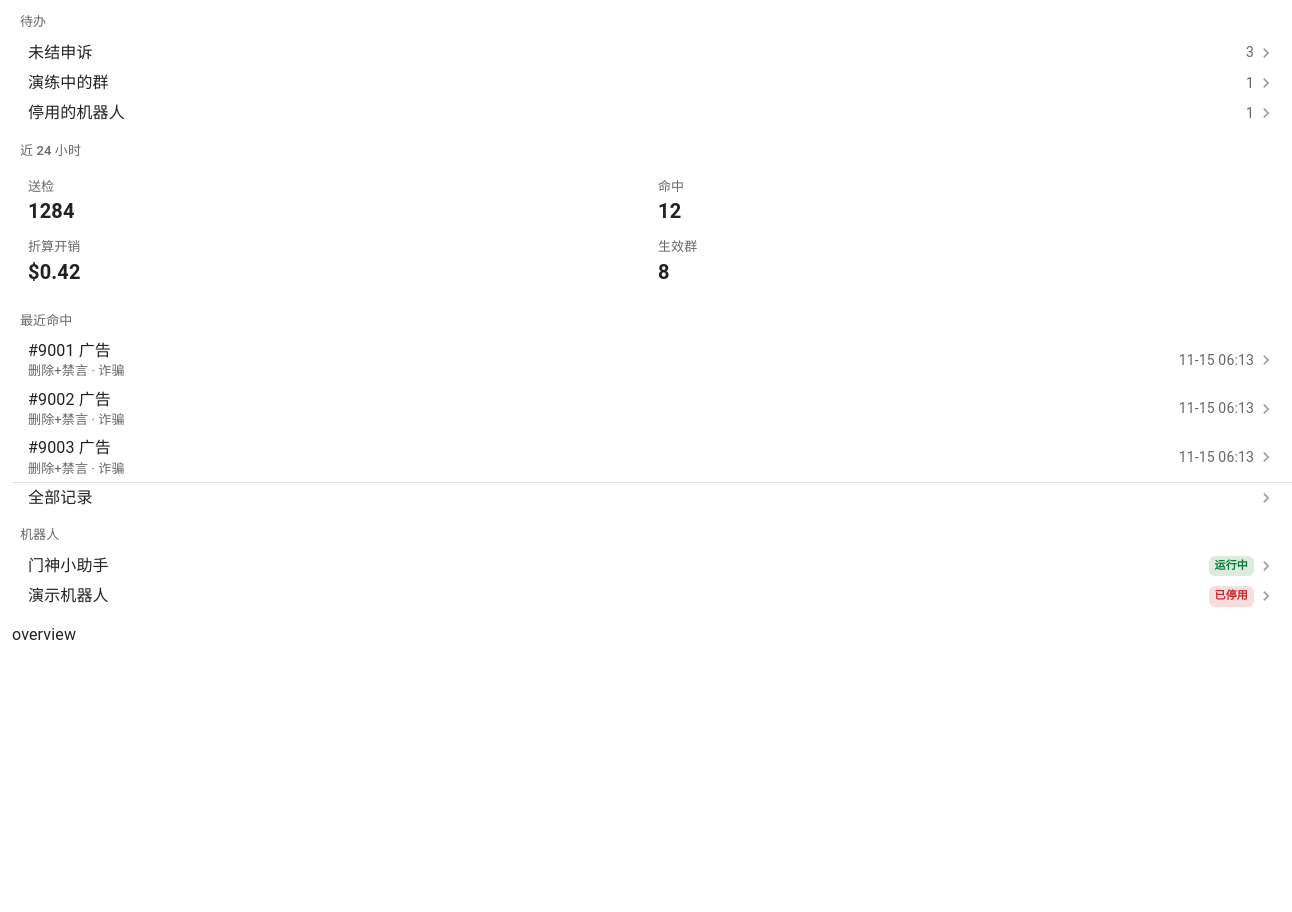
Test case: OverviewPage › 渲染指标与最近命中（只取前 3 条），点行进入 log 详情、全部记录进记录页
Expected: the text "送检" is shown, [28, 179, 54, 194]
Expected: the text "1284" is shown, [28, 199, 75, 223]
Click the text "#9001 广告".
click(70, 350)  # box [28, 341, 111, 360]
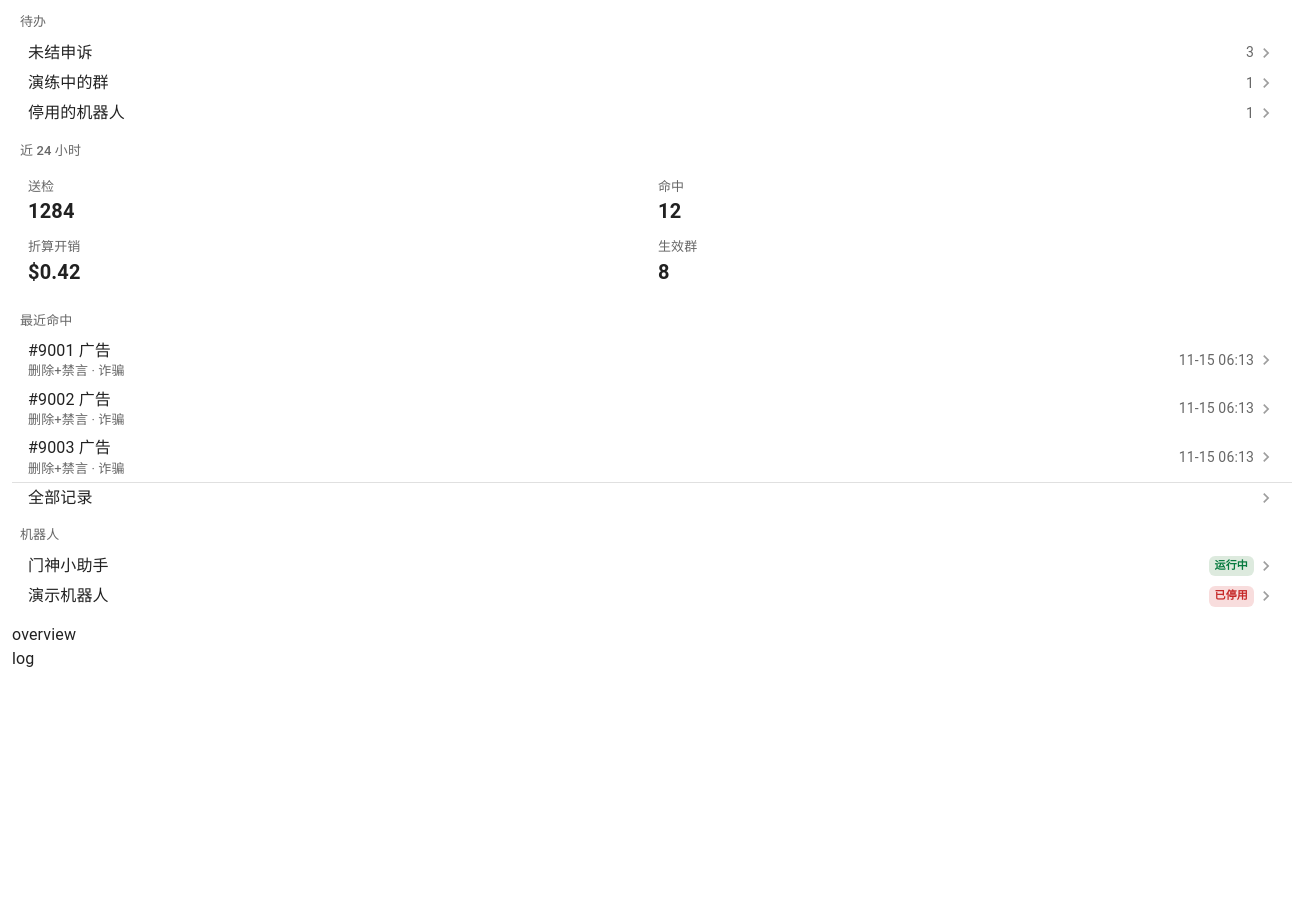
Expected: the text with test id "nav-top" reads "log", [12, 650, 34, 668]
Click the button "全部记录".
click(60, 497)  # box [12, 483, 1291, 513]
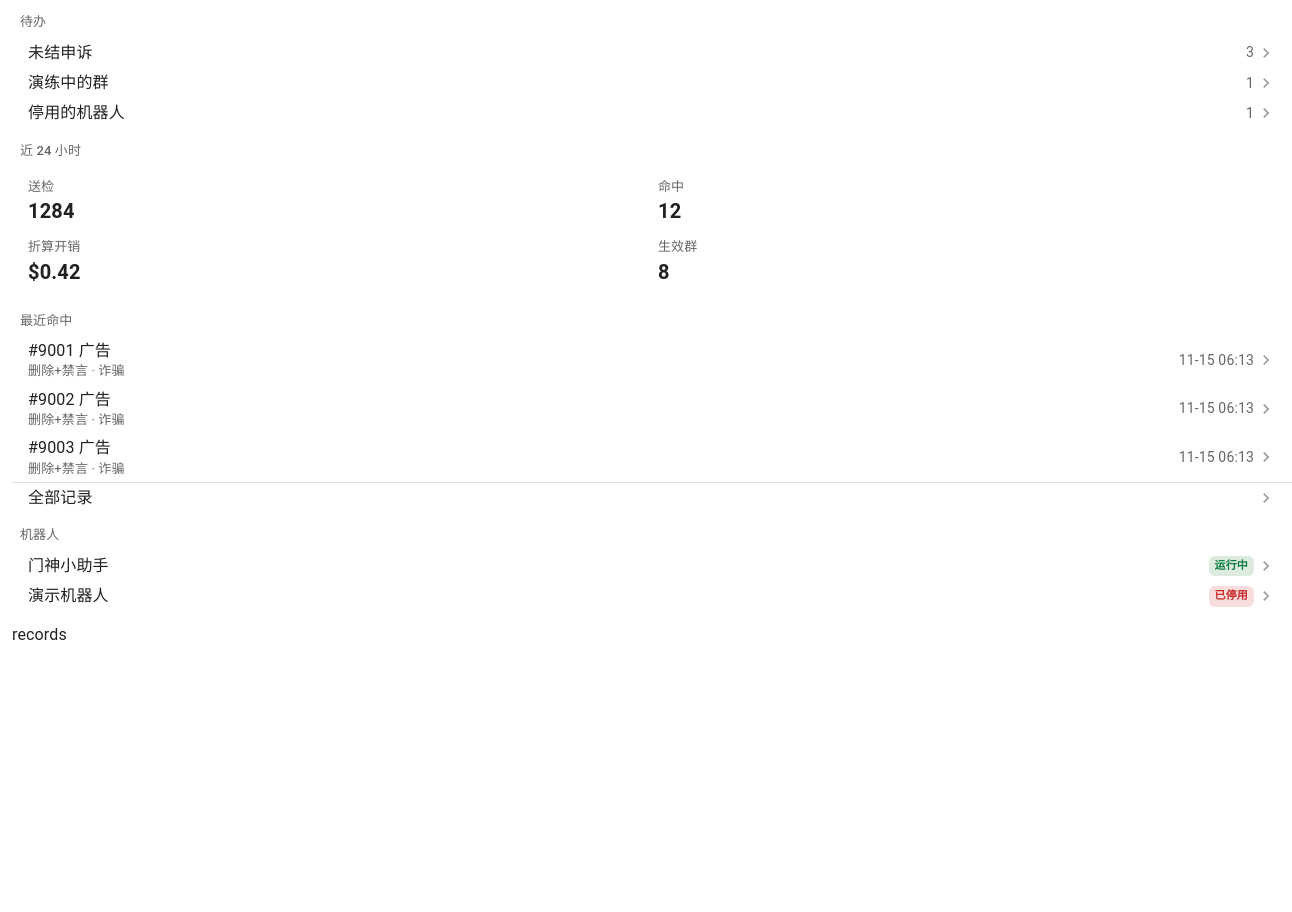
Expected: the text with test id "nav-tab" reads "records", [12, 626, 67, 644]
